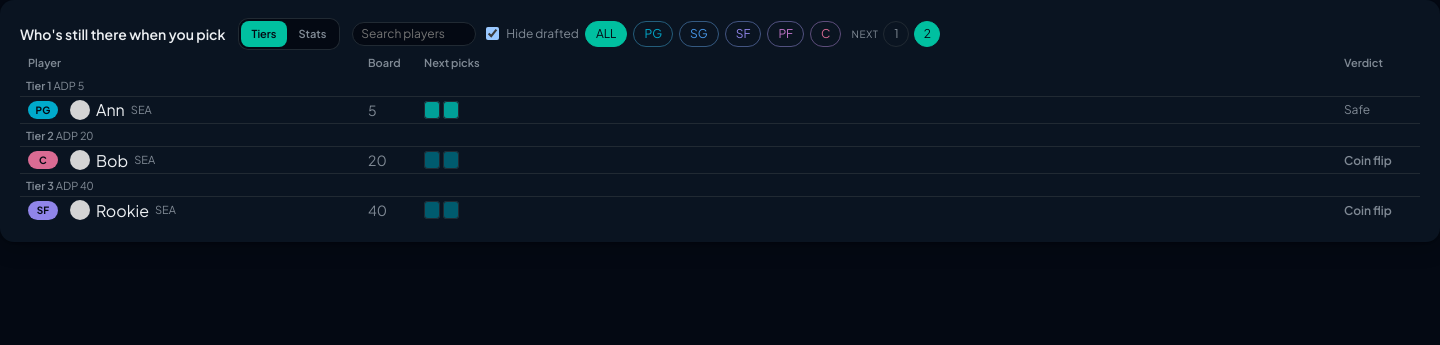
it: AvailabilityPanel stats view (spec 023 US1) › renders one row per undrafted player, ordered by the default sort
The image size is (1440, 345).
Click the button "Stats" at x=312, y=34, box [287,21,337,47]
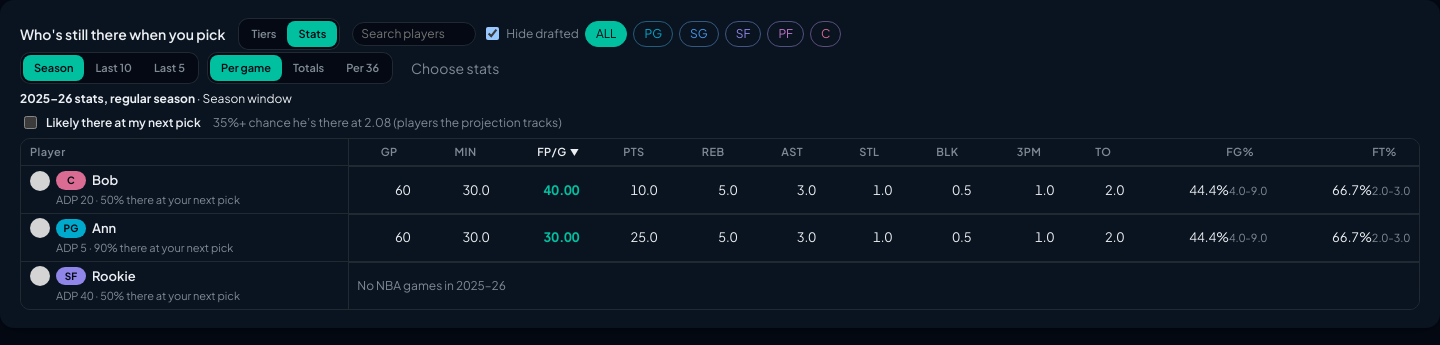
Now the text "2025–26 stats, regular season" is shown, box [20,91,195,106]
